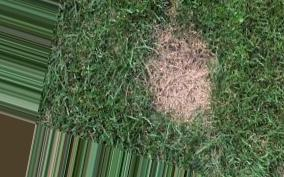patch: (154, 43, 202, 111)
